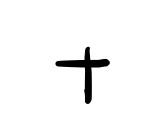plus: (55, 47, 110, 103)
